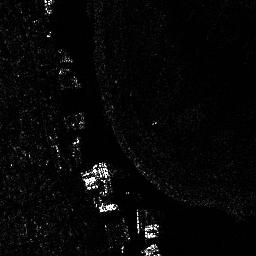ship: (72, 136, 84, 165)
